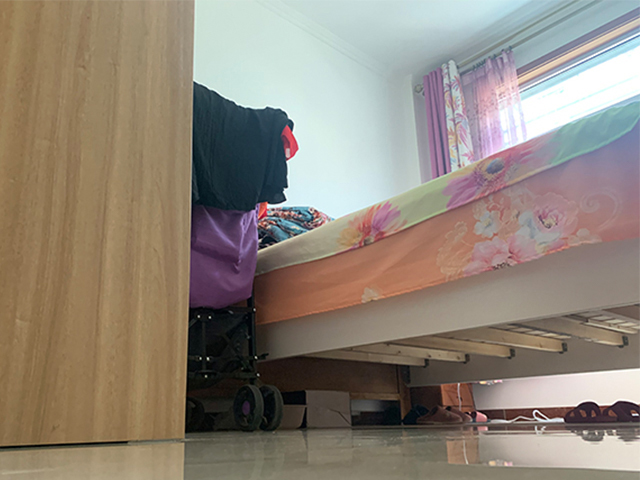bed: (250, 91, 640, 421)
slippers: (399, 405, 466, 424), (601, 402, 640, 425), (563, 401, 601, 424)
wire: (483, 408, 564, 426)
